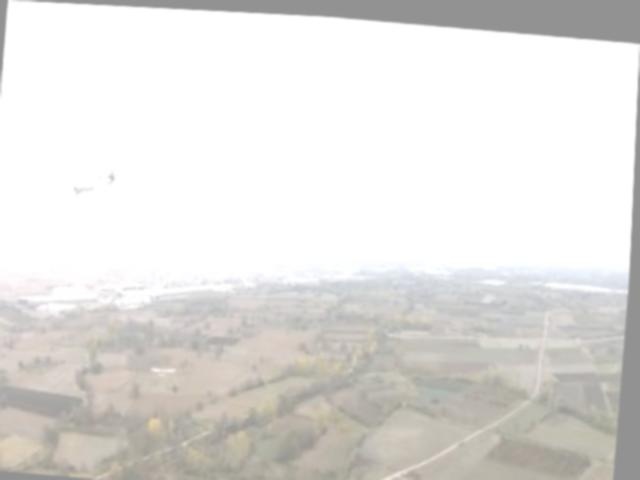uav: (55, 123, 147, 228)
